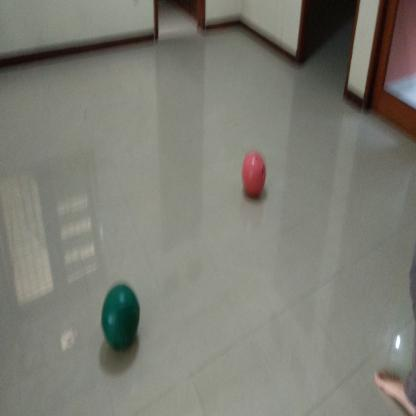green_buoy: (97, 277, 142, 358)
red_buoy: (238, 147, 272, 207)
